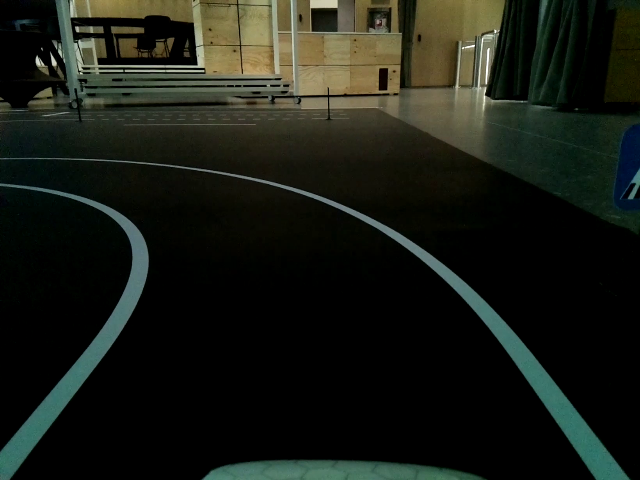pedestrians: (618, 128, 640, 206)
